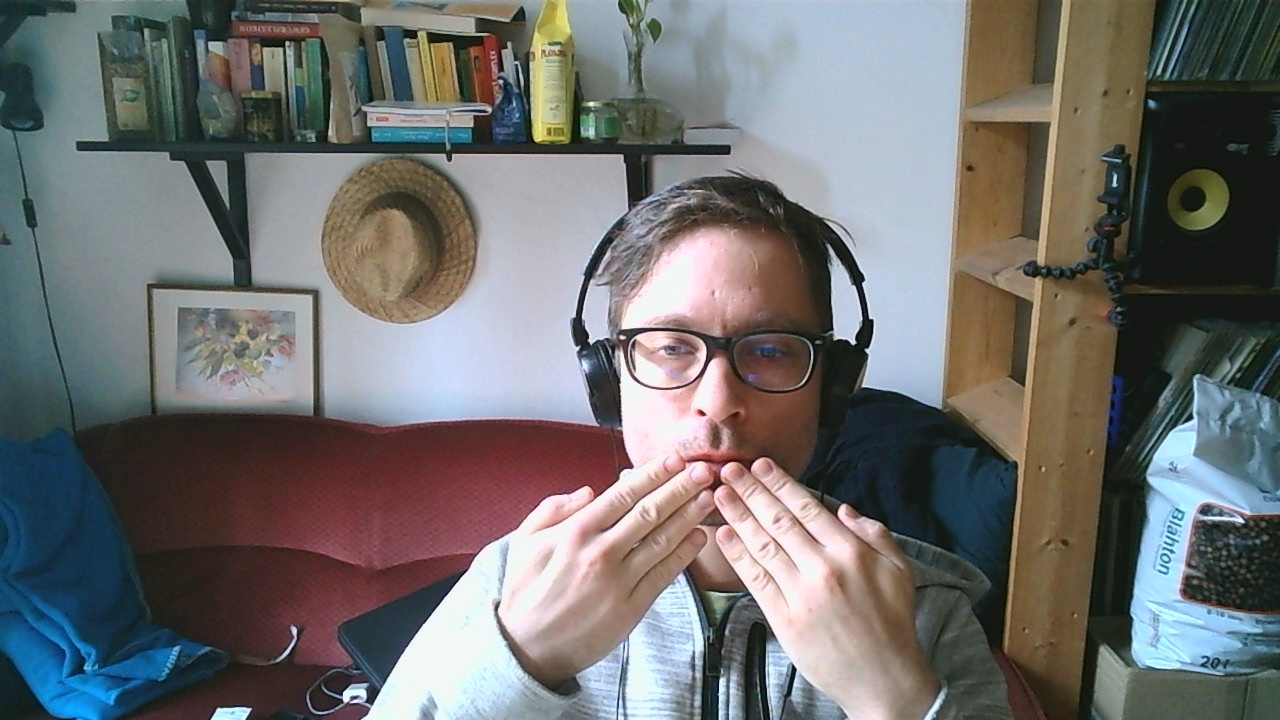thanks: (501, 451, 923, 688)
